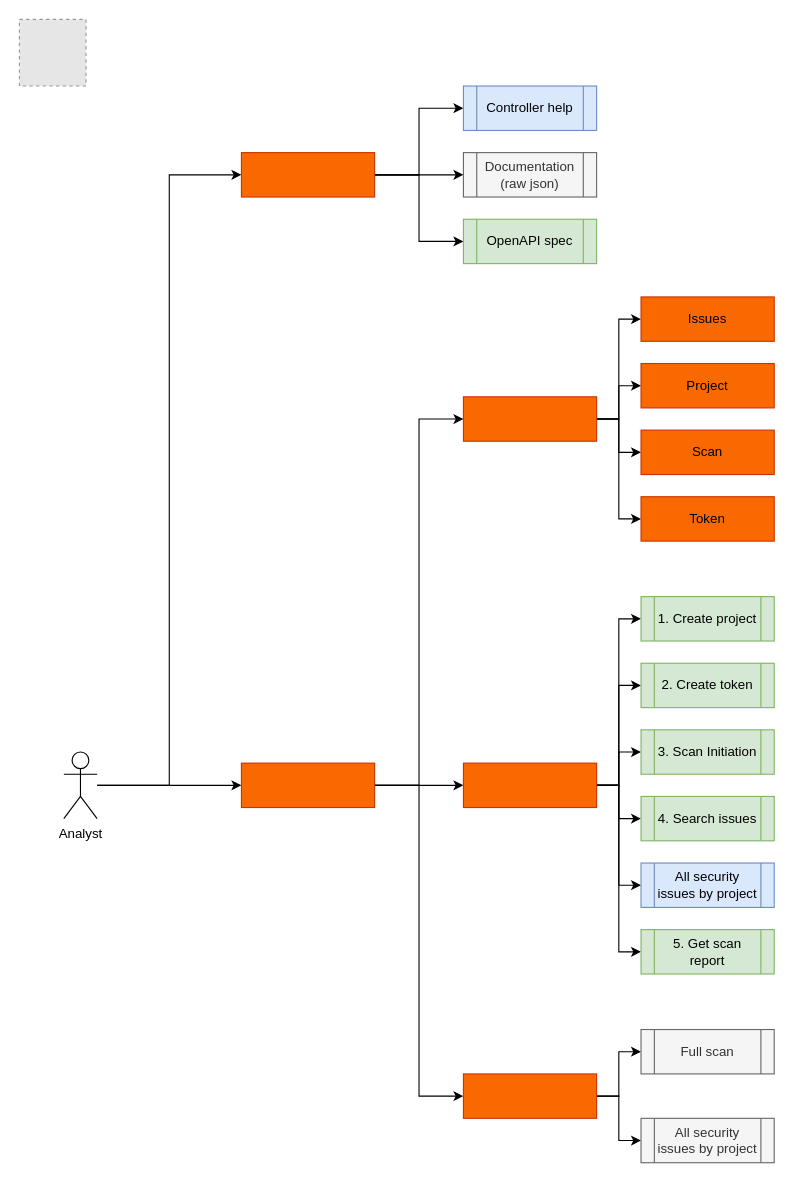
This 794x1182 diagram has some shape labels left out. Grey dashed boxes stand in for pictures. The box of each missing label's shape, as (x1, y1, x2, y2) in pixels:
API by domain: (462, 396, 597, 441)
app collection: (240, 152, 375, 197)
scanner collection: (240, 762, 375, 808)
Step by step flow: (462, 762, 597, 808)
VCS flow: (462, 1073, 597, 1118)
